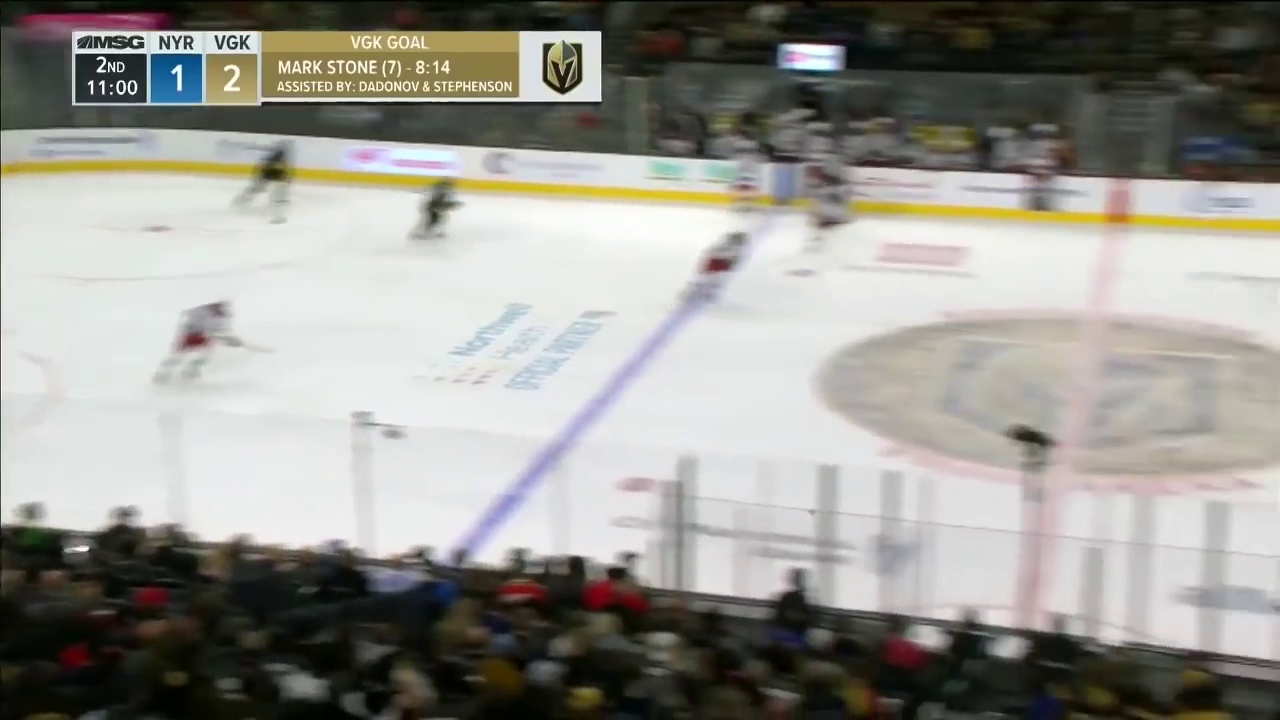hockeyplayer: (153, 300, 243, 384), (233, 142, 291, 224), (685, 231, 747, 298), (413, 174, 464, 240)
